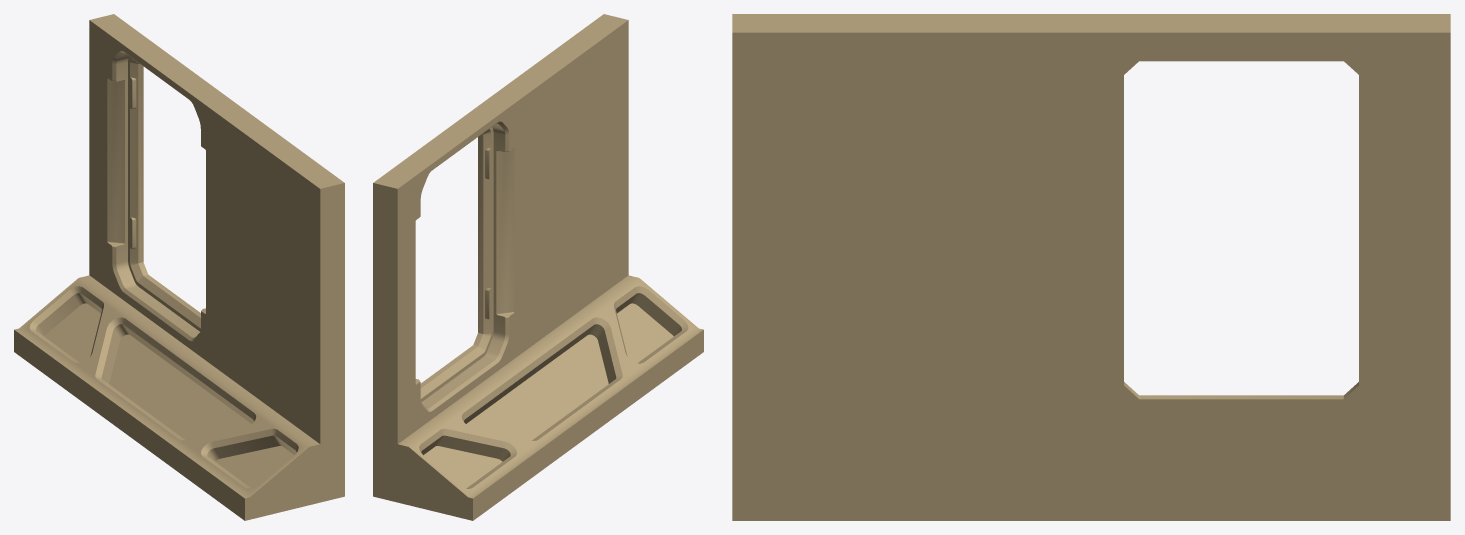
File: door.FBX
The picture shows the model from 3 angles, left to right: view 1: azimuth 30°, elevation 25°; view 2: azimuth 150°, elevation 25°; view 3: azimuth 270°, elevation 25°; orthographic projection. The views are drawn at different scales.
Parts seen in each view (by area): view 1: wall_low, dool_low; view 2: wall_low, dool_low; view 3: wall_low, dool_low.
Boxes of the visible parts, x1,y1,x2,y2 form: wall_low: (14,14,344,520); dool_low: (128,56,200,331); wall_low: (373,14,703,520); dool_low: (420,127,493,402); wall_low: (732,14,1450,520); dool_low: (1108,47,1374,413).
Size of the model in its own units: 99.03 by 297 by 396.
